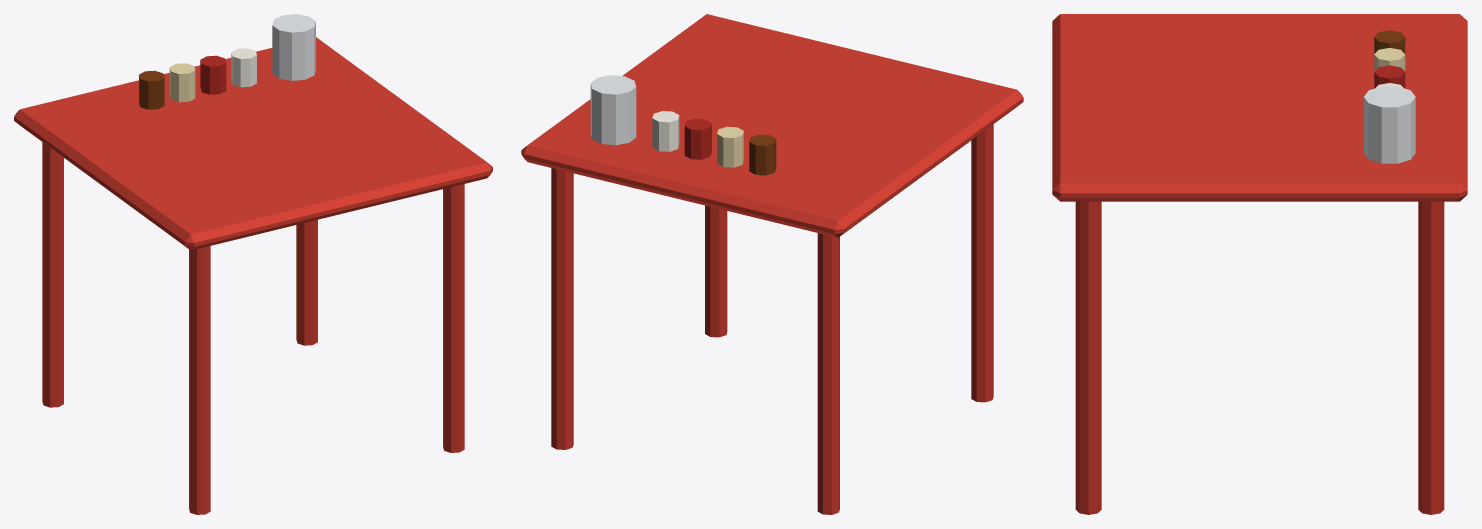
The model's file is plastic_table.glb.
The picture shows the model from 3 angles, left to right: view 1: azimuth 30°, elevation 25°; view 2: azimuth 150°, elevation 25°; view 3: azimuth 270°, elevation 25°; orthographic projection. The views are drawn at different scales.
Parts seen in each view (by area): view 1: plastic_table; view 2: plastic_table; view 3: plastic_table.
Part boxes in pixels (box(x1,y1,x2,y2)): plastic_table: box(14, 14, 492, 514); plastic_table: box(521, 14, 1023, 514); plastic_table: box(1052, 14, 1467, 514).
Bounding box in the file's own units: 0.8 × 0.84 × 0.8.
